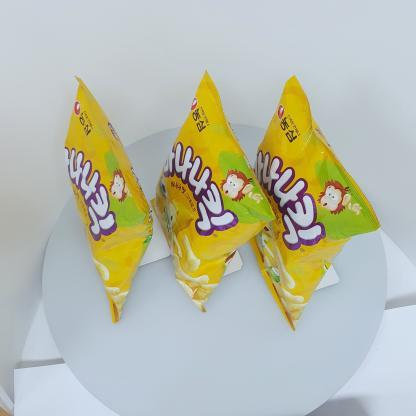Plastic Packaging: (59, 68, 157, 328), (157, 82, 261, 304), (272, 78, 346, 314)
